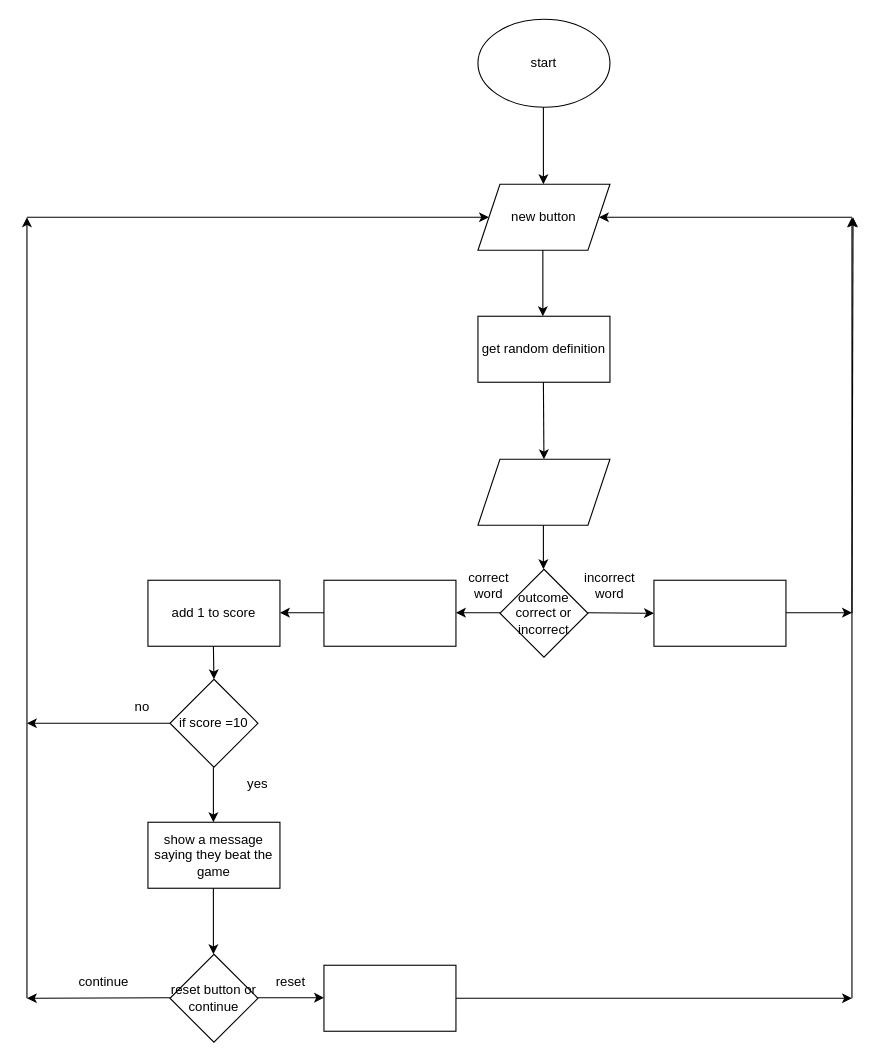
Image size: 881x1062. Some labels were removed from this diagram. The shapes that lost their labels are listed below. From the top down, each one's centre as x and y in pixels, then its label:
At (543,491): "user inputs word".
At (389,612): "show a message saying word was correct".
At (719,612): "show a message saying word was incorrect".
At (389,997): "reset score".
